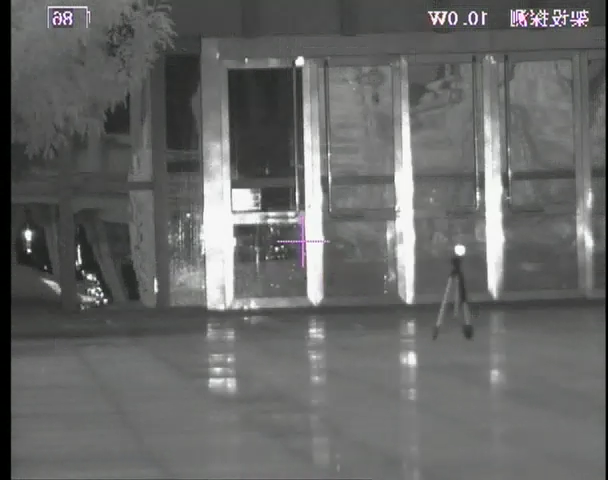my: (453, 243, 466, 258)
